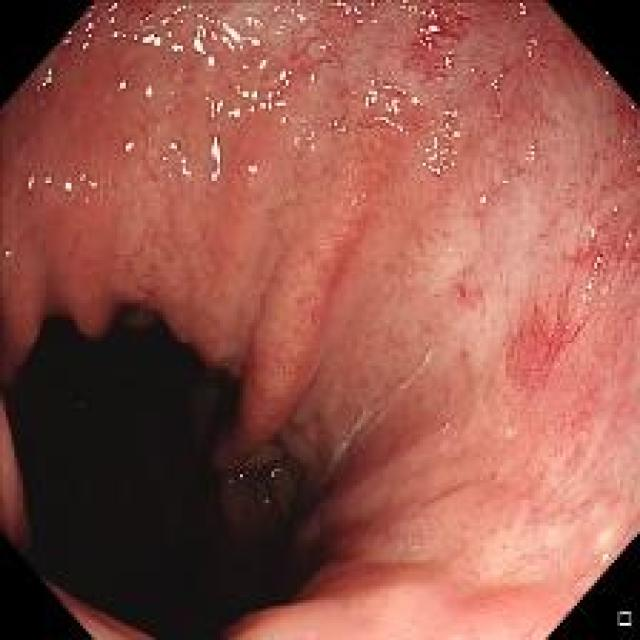contrast: (9, 290, 362, 636)
specularity: (65, 8, 300, 116), (20, 139, 221, 214), (358, 78, 469, 181), (564, 162, 625, 310), (324, 5, 449, 52), (519, 30, 549, 69), (474, 180, 499, 225), (510, 132, 541, 165), (490, 62, 514, 104), (34, 62, 55, 106), (262, 464, 280, 512), (511, 2, 538, 28), (282, 0, 306, 28), (225, 468, 246, 495), (326, 115, 348, 138), (622, 220, 636, 252), (244, 160, 260, 176), (306, 70, 319, 88), (1, 245, 14, 259)
